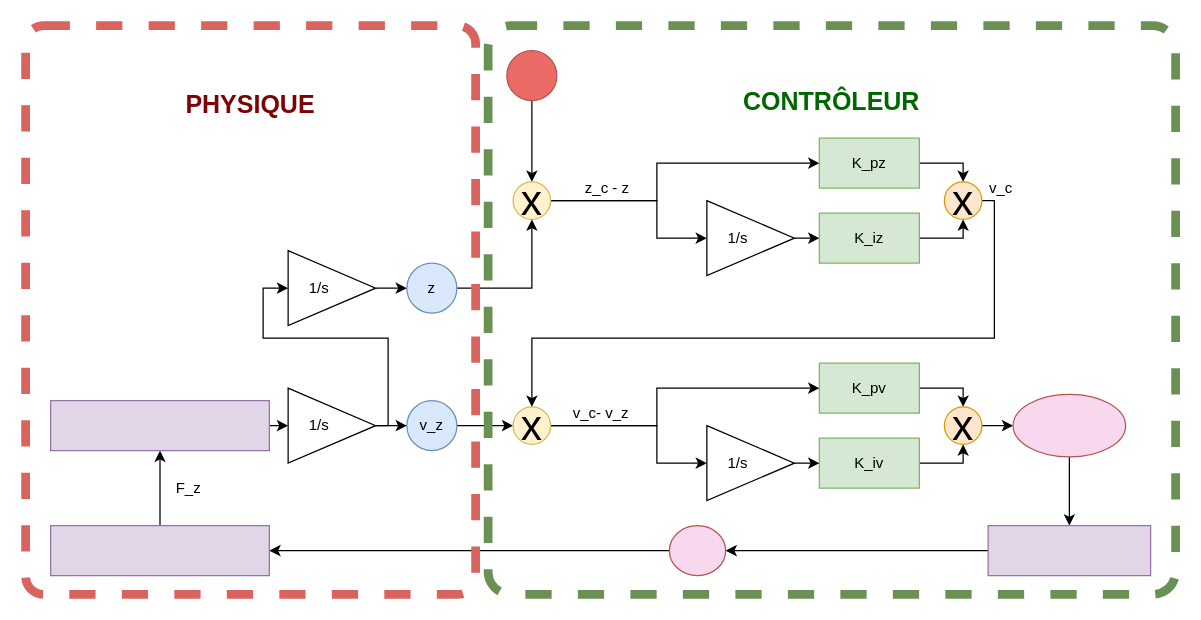
This 1201x620 diagram has some shape labels left out. The shapes that lost their labels are listed below. From the top down, each one's centre as x and y in pixels, then its label:
At [531,75]: "z_c".
At [159,425]: "x -> x/m - g".
At [1069,425]: "thurstRaw".
At [159,550]: "x -> 4*(k1*x² + k2*x + k3)".
At [697,550]: "PWM".
At [1069,550]: "x -> scale*x + base".
